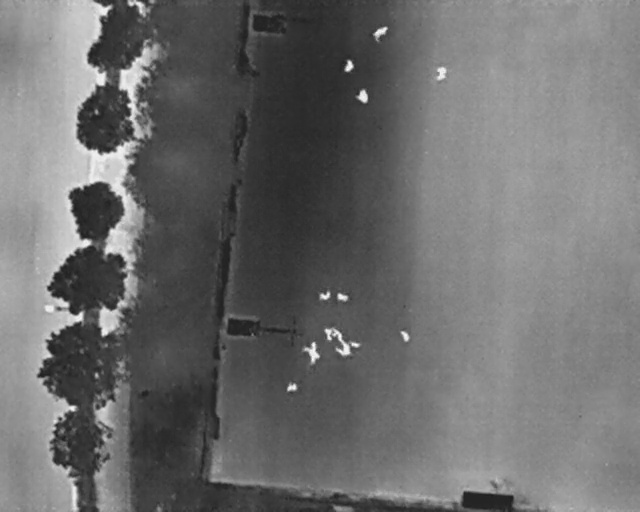Person: (298, 339, 324, 367), (368, 21, 392, 45), (335, 338, 352, 360), (353, 87, 371, 106), (432, 63, 449, 83), (341, 57, 357, 76), (398, 327, 413, 345), (335, 290, 350, 305), (330, 325, 343, 340), (285, 381, 299, 394), (348, 339, 363, 351), (323, 325, 334, 341), (318, 290, 332, 301)
